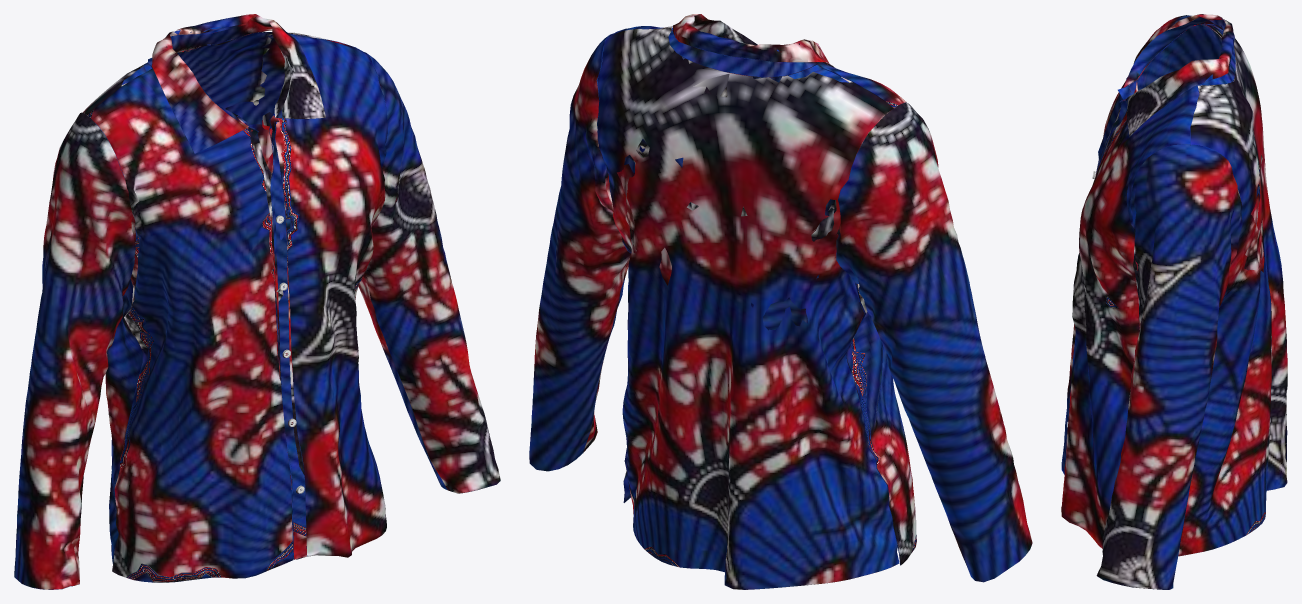
File: female_shirt_extra_long_two.glb
3 renders of one model, left to right at view 1: azimuth 30°, elevation 25°; view 2: azimuth 150°, elevation 25°; view 3: azimuth 270°, elevation 25°, orthographic. The views are drawn at different scales.
Visible parts, largest first — view 1: all; view 2: all; view 3: all.
Part boxes in pixels (box(x1,y1,x2,y2)): all: box(14, 14, 500, 589); all: box(529, 14, 1032, 589); all: box(1061, 14, 1287, 589).
Bounding box in the file's own units: 0.6567 × 0.6728 × 0.2945.
Materials: 1 (1 with a texture image).
